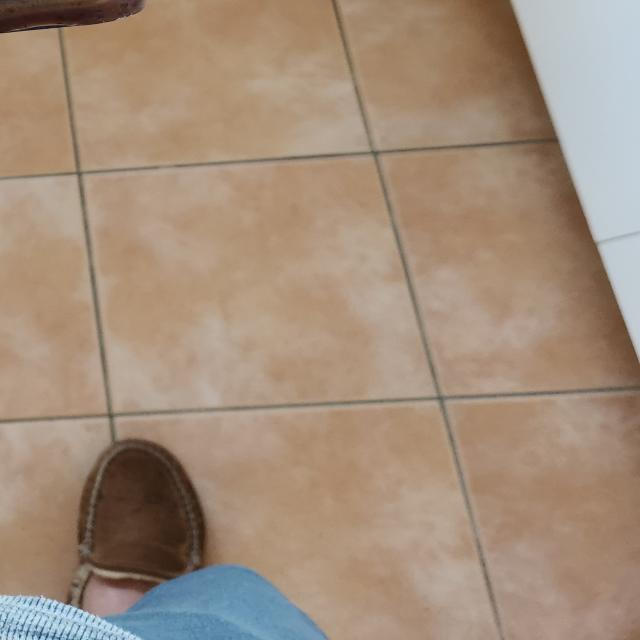balsamic vinaigrette: (0, 0, 176, 38)
